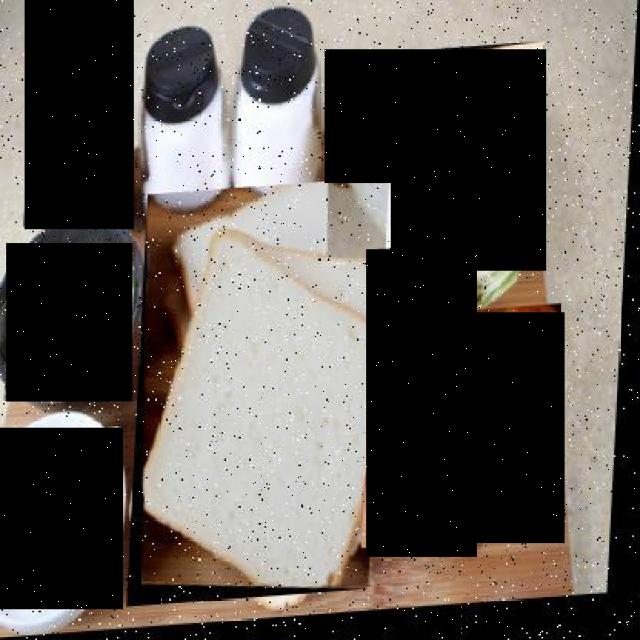Bread: (132, 183, 391, 611)
Butter: (0, 428, 123, 609)
Cabbage: (325, 49, 546, 271)
Carrot: (460, 313, 565, 544)
Egg: (366, 249, 477, 556)
Ketchup: (24, 0, 134, 229)
Onion_Leaves: (7, 243, 139, 402)
